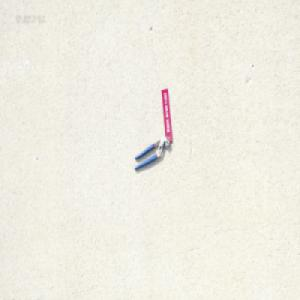Label: (161, 88, 173, 142)
Pliers: (134, 134, 170, 170)
